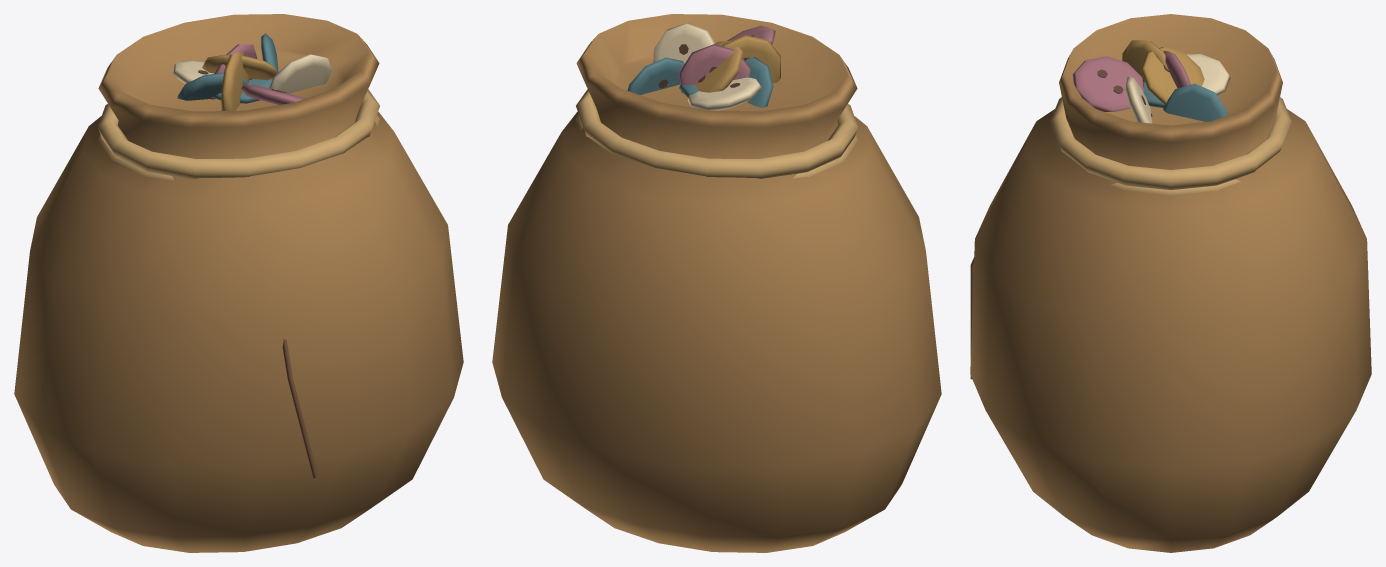
Rendered from button_sack.glb.
The picture shows the model from 3 angles, left to right: view 1: azimuth 30°, elevation 25°; view 2: azimuth 150°, elevation 25°; view 3: azimuth 270°, elevation 25°; orthographic projection. The views are drawn at different scales.
Visible parts, largest first — view 1: button_sack; view 2: button_sack; view 3: button_sack.
Part boxes in pixels (x1=…): button_sack: x1=14, y1=14, x2=463, y2=552; button_sack: x1=492, y1=14, x2=941, y2=552; button_sack: x1=970, y1=14, x2=1371, y2=552.
Size of the model in its own units: 0.5 by 0.55 by 0.45.
